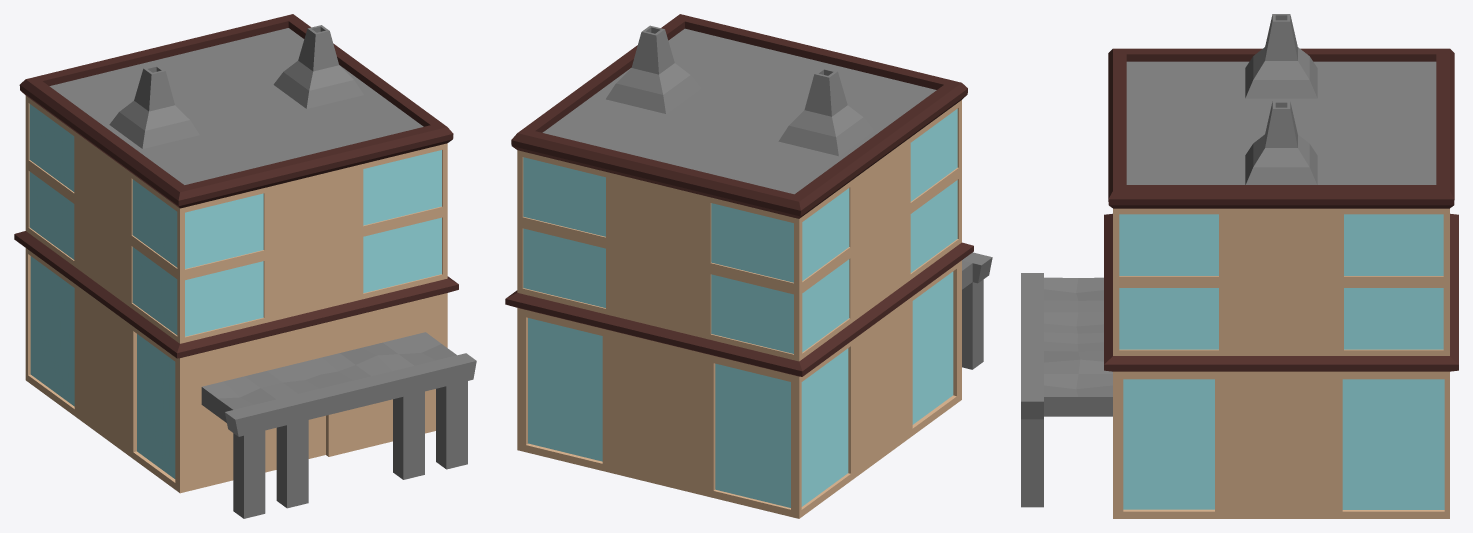
Rendered from Building_01.fbx.
The picture shows the model from 3 angles, left to right: view 1: azimuth 30°, elevation 25°; view 2: azimuth 150°, elevation 25°; view 3: azimuth 270°, elevation 25°; orthographic projection. The views are drawn at different scales.
Visible parts, largest first — view 1: Building_01; view 2: Building_01; view 3: Building_01.
Boxes of the visible parts, x1,y1,x2,y2 form: Building_01: (14, 14, 476, 518); Building_01: (505, 14, 992, 518); Building_01: (1021, 14, 1458, 518).
Size of the model in its own units: 843 by 1013 by 1040.
